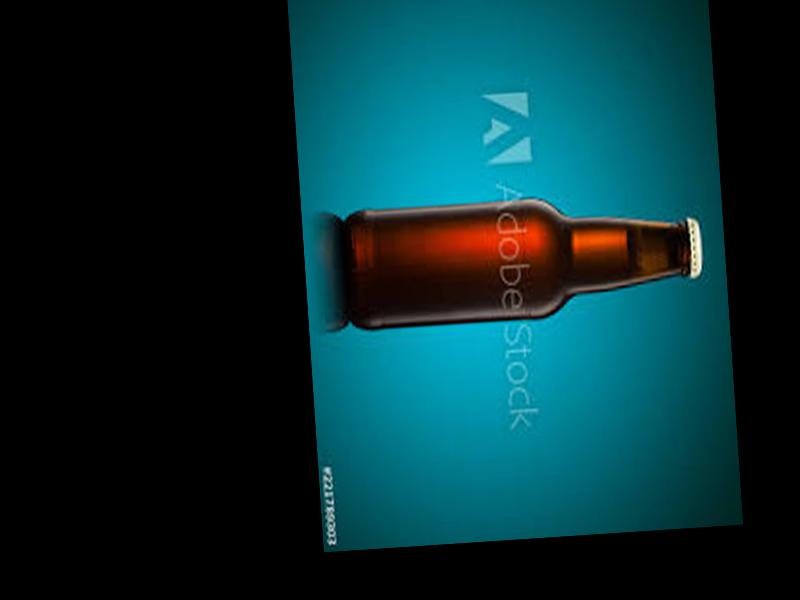Beer: (340, 188, 706, 333)
